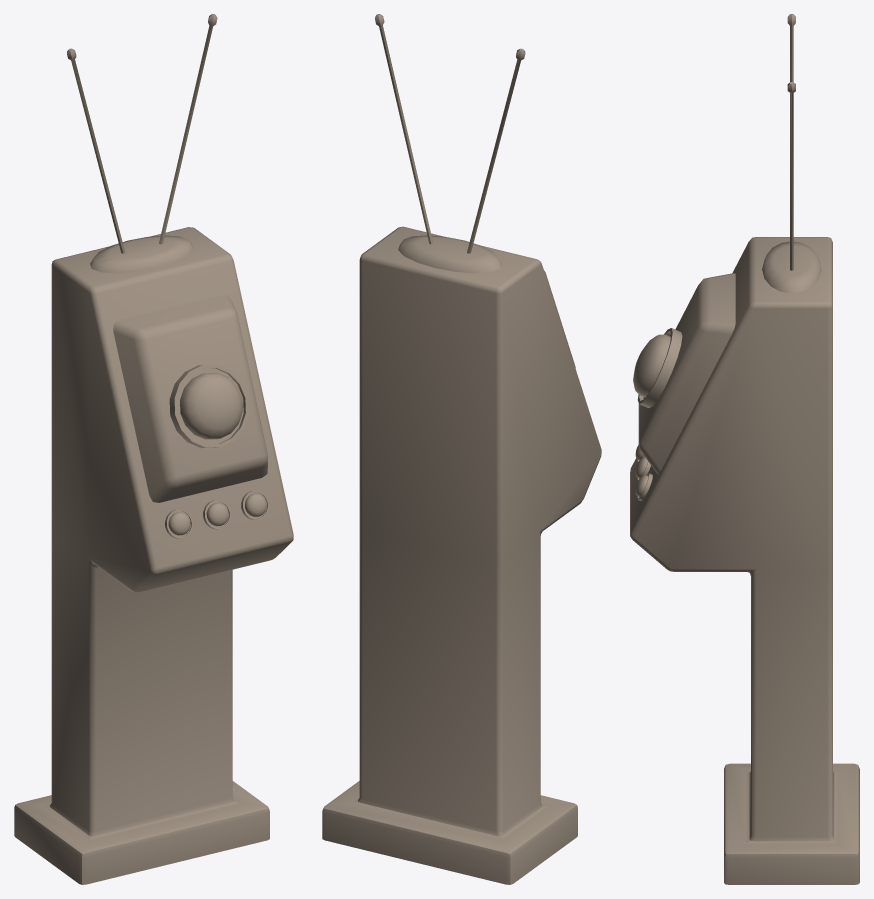
Rendered from SM_Door_Button_high.fbx.
The picture shows the model from 3 angles, left to right: view 1: azimuth 30°, elevation 25°; view 2: azimuth 150°, elevation 25°; view 3: azimuth 270°, elevation 25°; orthographic projection.
Visible parts, largest first — view 1: SM_Door_Button_high; view 2: SM_Door_Button_high; view 3: SM_Door_Button_high.
Boxes of the visible parts, x1,y1,x2,y2 form: SM_Door_Button_high: (14, 14, 293, 884); SM_Door_Button_high: (322, 14, 601, 884); SM_Door_Button_high: (630, 14, 859, 884).
Bounding box in the file's own units: 40 × 42.56 × 162.
